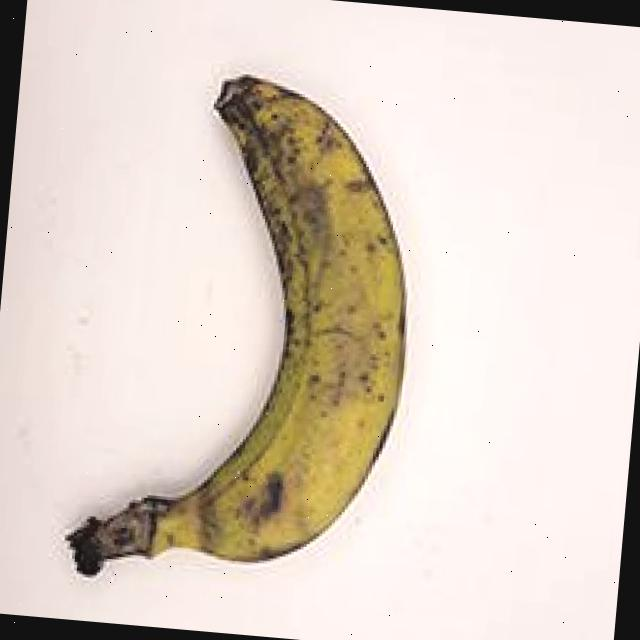Overripe: (28, 36, 474, 620)
